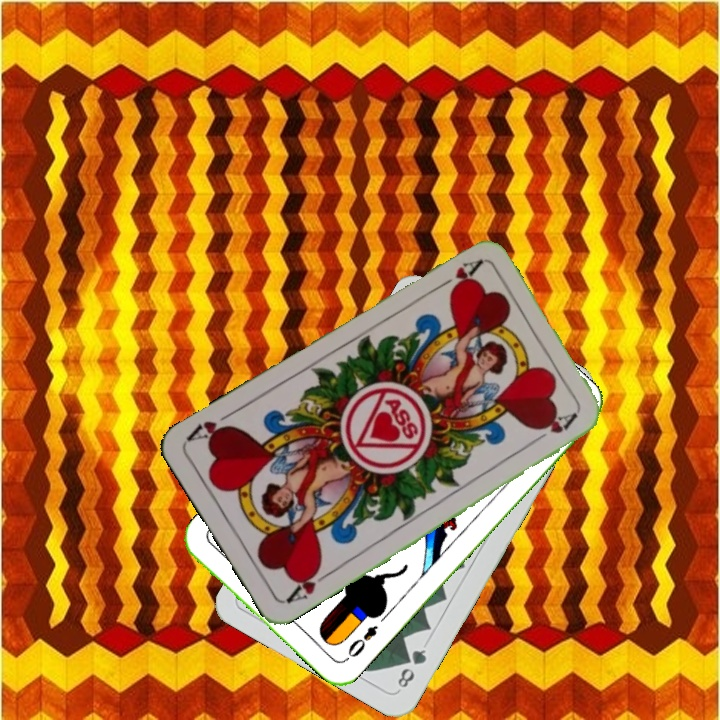EO: (340, 621, 380, 664)
G8: (393, 645, 429, 691)
HA: (282, 561, 335, 606), (430, 256, 484, 294)
